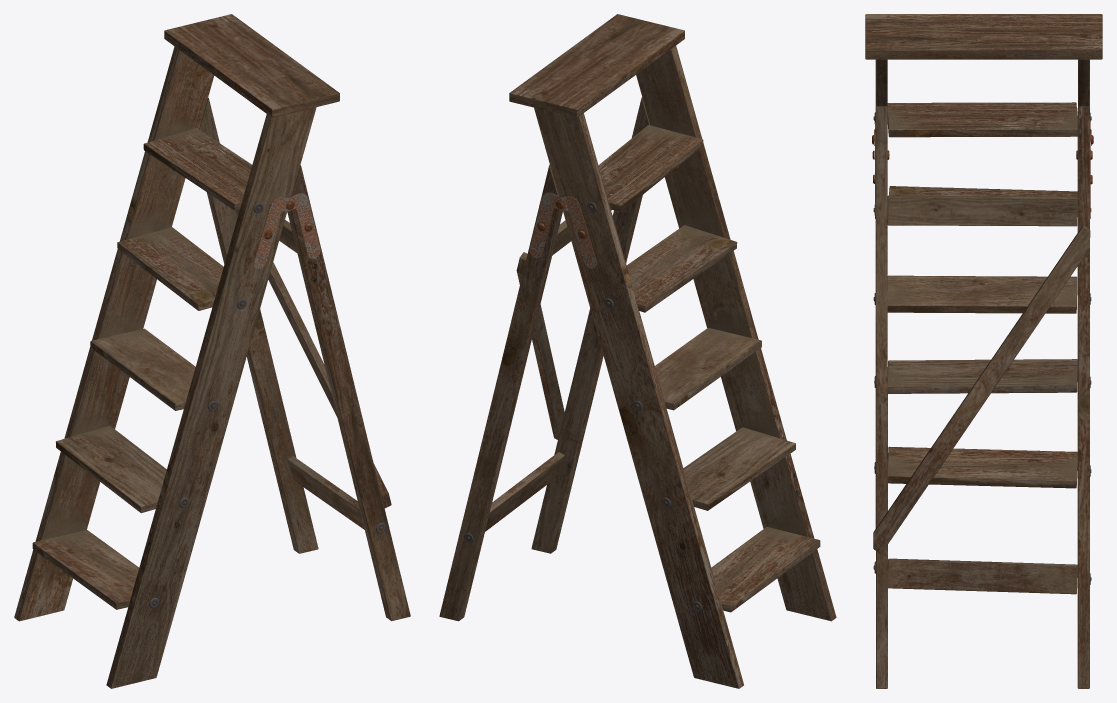
Rendered from ladder.fbx.
3 renders of one model, left to right at view 1: azimuth 30°, elevation 25°; view 2: azimuth 150°, elevation 25°; view 3: azimuth 270°, elevation 25°, orthographic. The views are drawn at different scales.
Visible parts, largest first — view 1: wooden_ladder_02__wooden_ladder_02; view 2: wooden_ladder_02__wooden_ladder_02; view 3: wooden_ladder_02__wooden_ladder_02.
Boxes of the visible parts, x1,y1,x2,y2 form: wooden_ladder_02__wooden_ladder_02: [14, 14, 410, 688]; wooden_ladder_02__wooden_ladder_02: [439, 14, 836, 688]; wooden_ladder_02__wooden_ladder_02: [865, 14, 1102, 688].
Bounding box in the file's own units: 0.9895 × 1.72 × 0.6181.
